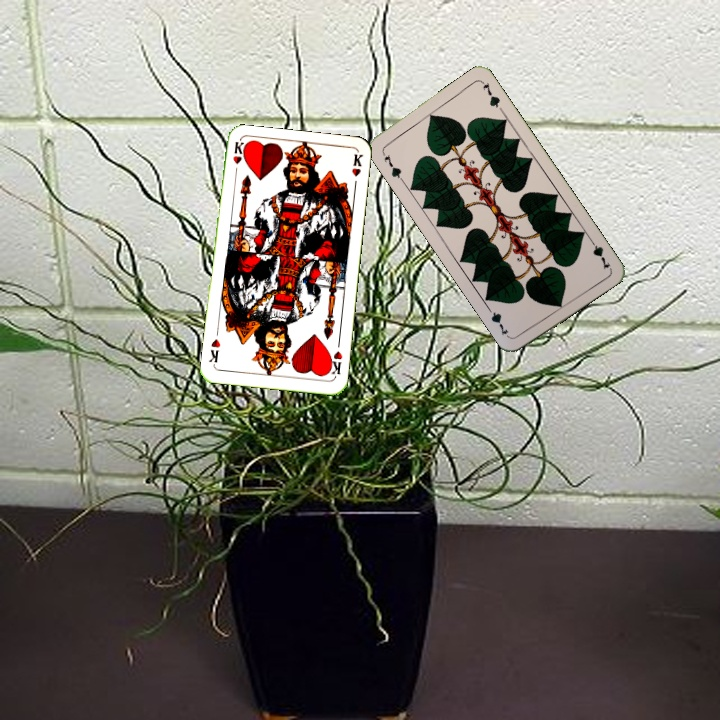G7: (585, 234, 613, 272), (380, 150, 405, 183)
HK: (229, 139, 246, 179), (324, 347, 345, 379)
